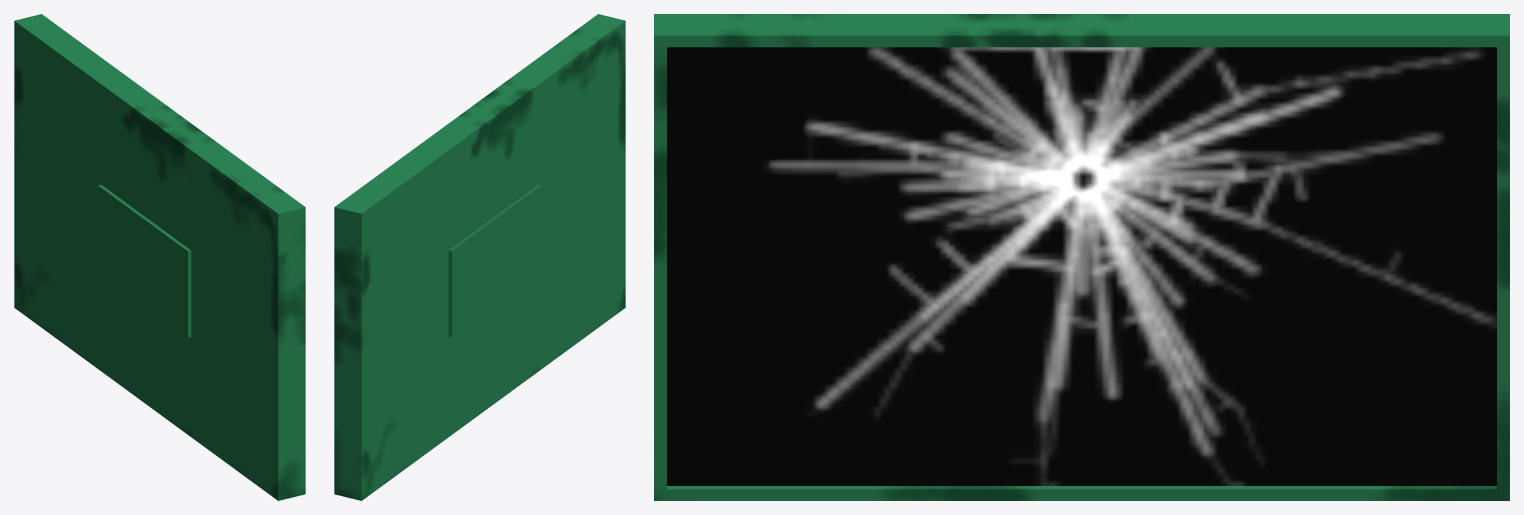
The model's file is Prop_005_Tv.fbx.
3 views of the same model, side by side, from view 1: azimuth 30°, elevation 25°; view 2: azimuth 150°, elevation 25°; view 3: azimuth 270°, elevation 25° (orthographic). The views are drawn at different scales.
Parts seen in each view (by area): view 1: Prop_005_Tv; view 2: Prop_005_Tv; view 3: Prop_005_Tv.
Boxes of the visible parts, box(x1,y1,x2,y2) form: Prop_005_Tv: box(14, 14, 305, 500); Prop_005_Tv: box(334, 14, 625, 500); Prop_005_Tv: box(654, 14, 1509, 500).
Size of the model in its own units: 0.147 by 0.9 by 1.5.
2 materials, 2 textured.
